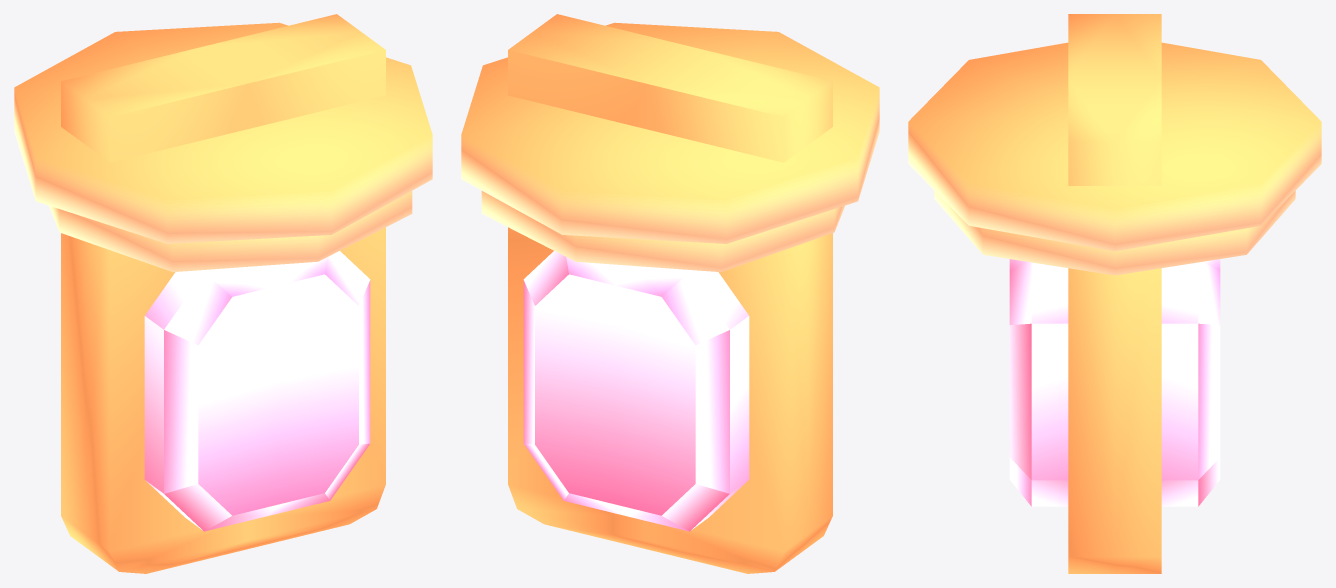
File: wood_pommel_189_004.glb
3 renders of one model, left to right at view 1: azimuth 30°, elevation 25°; view 2: azimuth 150°, elevation 25°; view 3: azimuth 270°, elevation 25°, orthographic. The views are drawn at different scales.
Visible parts, largest first — view 1: wood_pommel_189.004; view 2: wood_pommel_189.004; view 3: wood_pommel_189.004.
Part boxes in pixels (<box>): wood_pommel_189.004: <box>14,14,432,573</box>; wood_pommel_189.004: <box>461,14,879,573</box>; wood_pommel_189.004: <box>908,14,1321,573</box>.
Size of the model in its own units: 1.83 by 2.17 by 1.83.
1 material, 1 textured.
